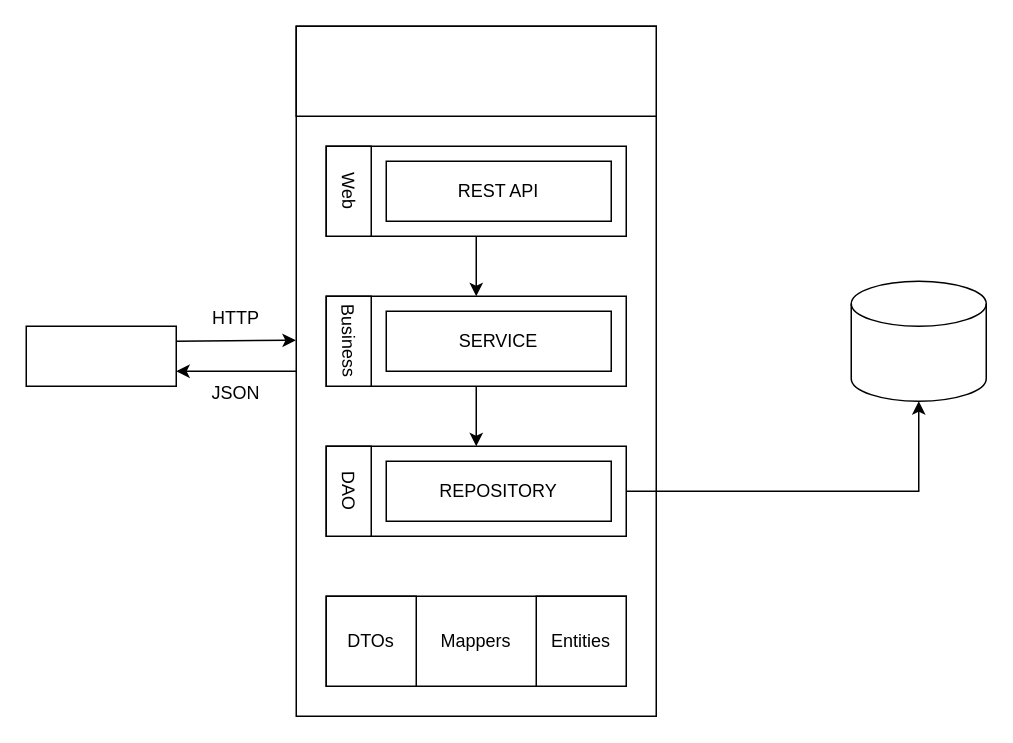
This 1013x743 diagram has some shape labels left out. The shapes that lost their labels are listed below. From the top down, each one's centre as x and y in pixels, then its label:
At point (475, 70): "WEB + IOC Containers".
At point (100, 355): "Frontend Web".
At point (918, 340): "Database".
